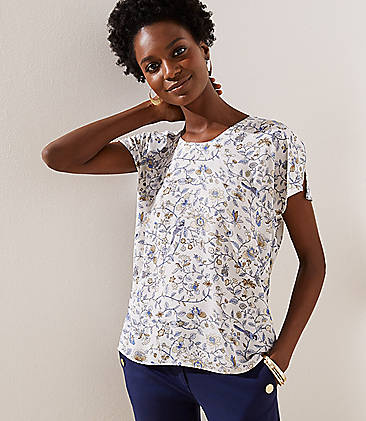C_short blouse: (116, 116, 314, 372)
